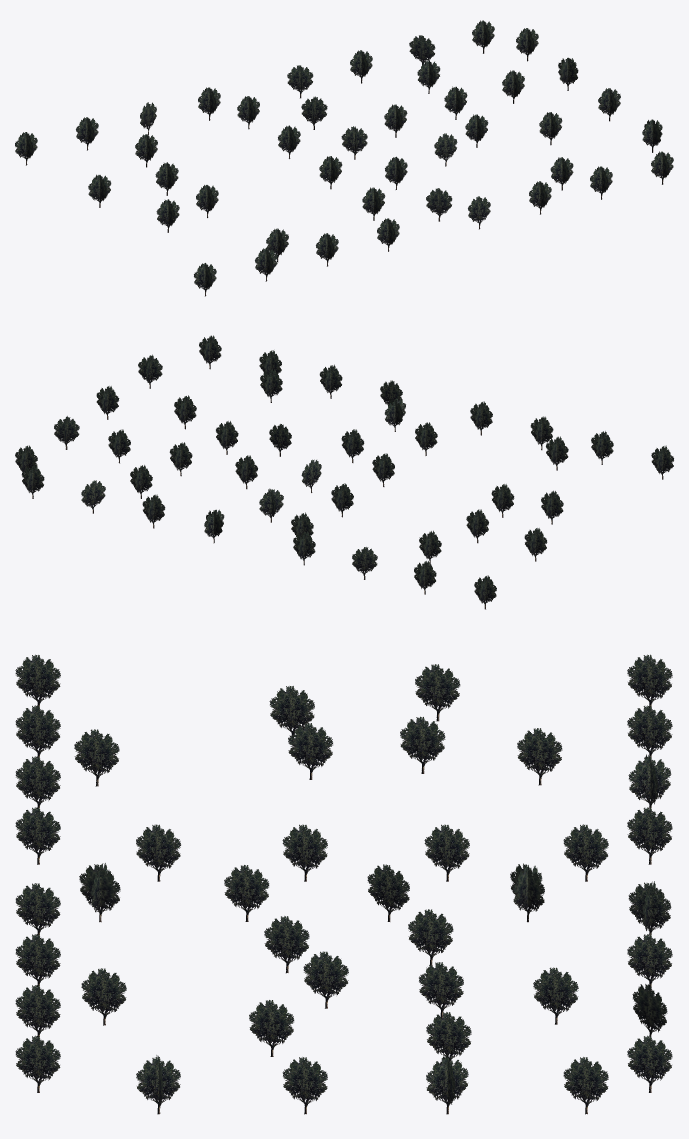
Rendered from planeTree17.FBX.
The picture shows the model from 3 angles, top to bottom: view 1: azimuth 30°, elevation 25°; view 2: azimuth 150°, elevation 25°; view 3: azimuth 270°, elevation 25°; orthographic projection. The views are drawn at different scales.
Visible parts, largest first — view 1: planeTree17; view 2: planeTree17; view 3: planeTree17.
Boxes of the visible parts, box(x1,y1,x2,y2) form: planeTree17: box(15, 20, 673, 296); planeTree17: box(15, 335, 673, 609); planeTree17: box(15, 654, 672, 1114).
Size of the model in its own units: 4337 by 279 by 2863.
1 material, 1 textured.
